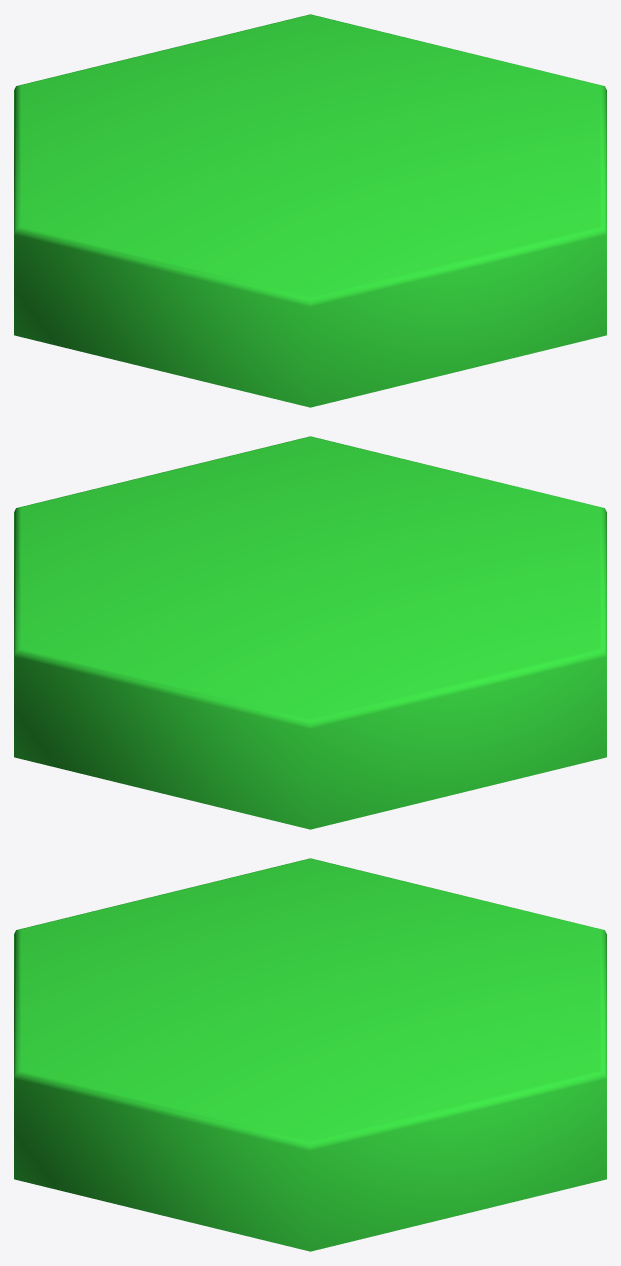
File: grass_full.glb
3 views of the same model, one above another, from view 1: azimuth 30°, elevation 25°; view 2: azimuth 150°, elevation 25°; view 3: azimuth 270°, elevation 25° (orthographic).
Parts seen in each view (by area): view 1: Grass_Full; view 2: Grass_Full; view 3: Grass_Full.
Part boxes in pixels (x1=…): Grass_Full: x1=14, y1=14, x2=606, y2=407; Grass_Full: x1=14, y1=436, x2=606, y2=829; Grass_Full: x1=14, y1=858, x2=606, y2=1251.
Size of the model in its own units: 1.16 by 0.2 by 1.
